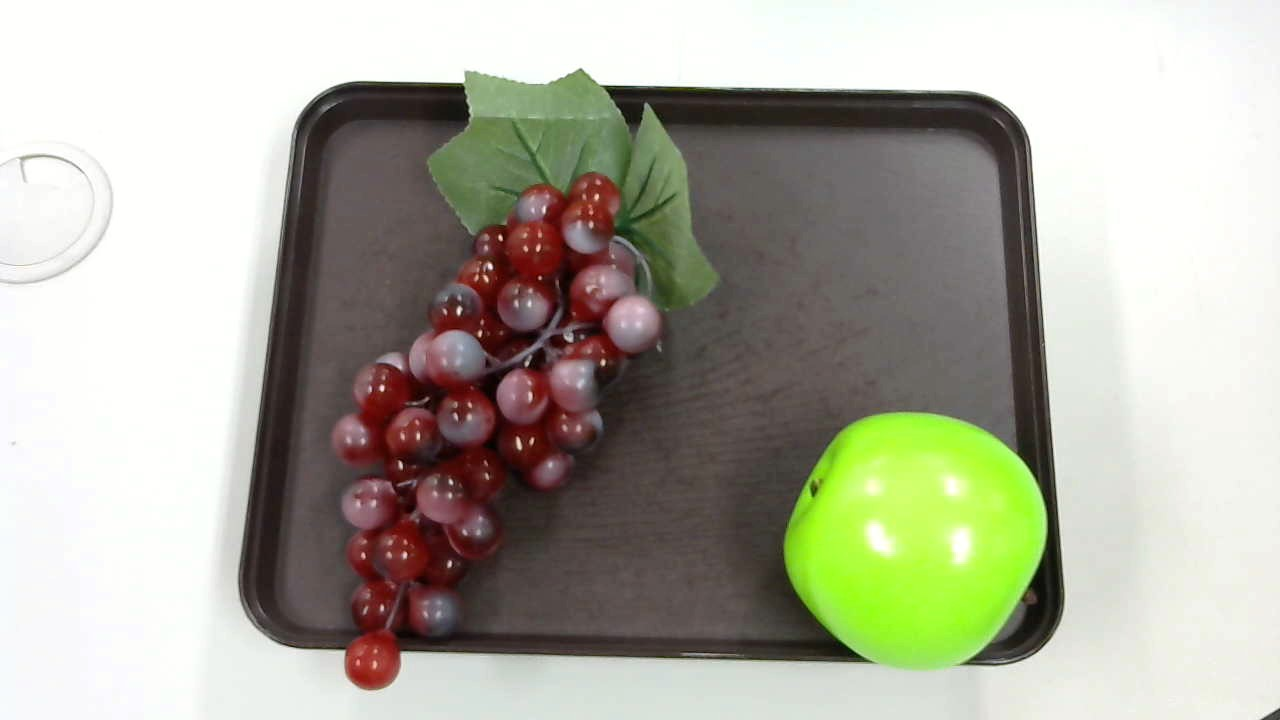grape: (320, 61, 724, 691)
green apple: (771, 407, 1049, 668)
